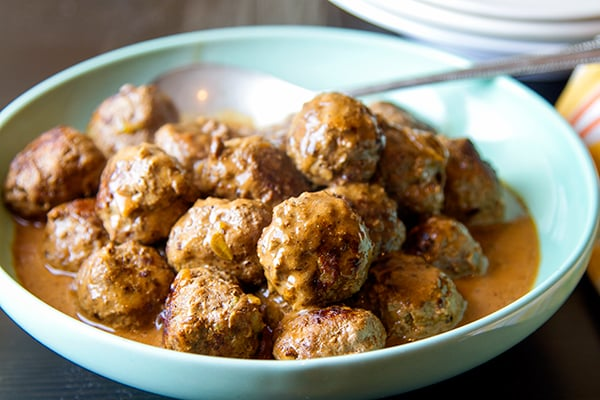meatballs: (7, 85, 510, 358)
